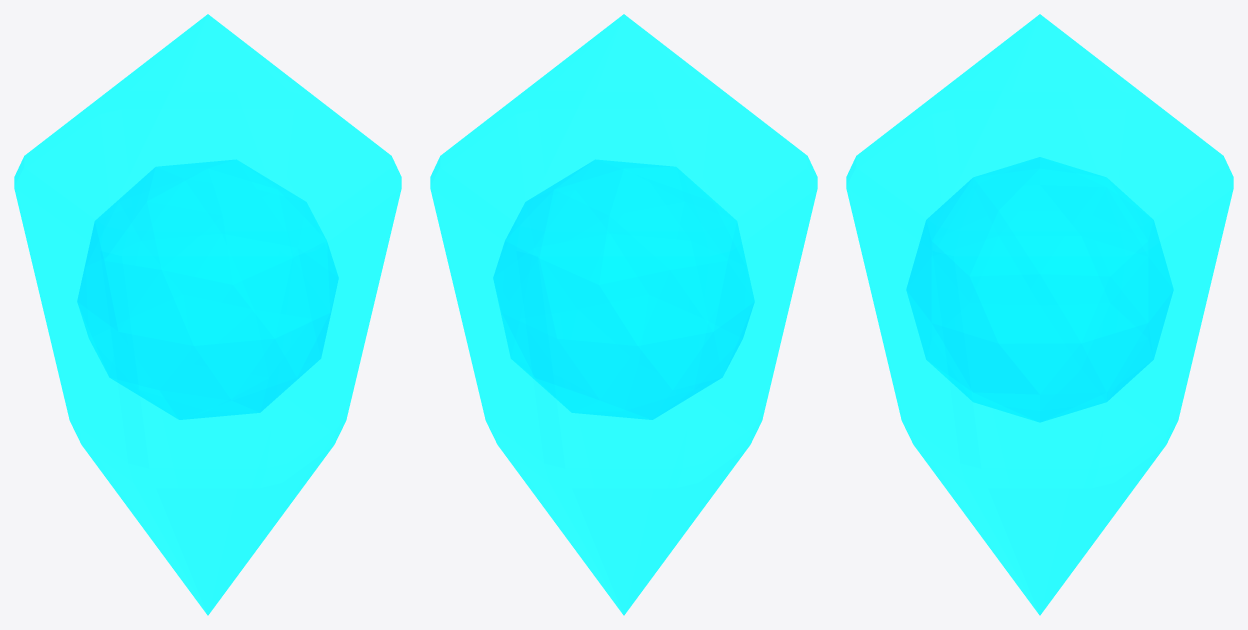
File: poin.xx.t2.fbx
The picture shows the model from 3 angles, left to right: view 1: azimuth 30°, elevation 25°; view 2: azimuth 150°, elevation 25°; view 3: azimuth 270°, elevation 25°; orthographic projection.
Parts seen in each view (by area): view 1: Cube; view 2: Cube; view 3: Cube.
Part boxes in pixels (box(x1,y1,x2,y2)): Cube: box(14, 14, 401, 615); Cube: box(430, 14, 817, 615); Cube: box(846, 14, 1233, 615).
Size of the model in its own units: 2.44 by 4.66 by 2.72.
